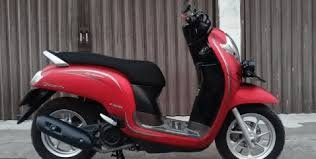motor: (18, 15, 286, 159)
